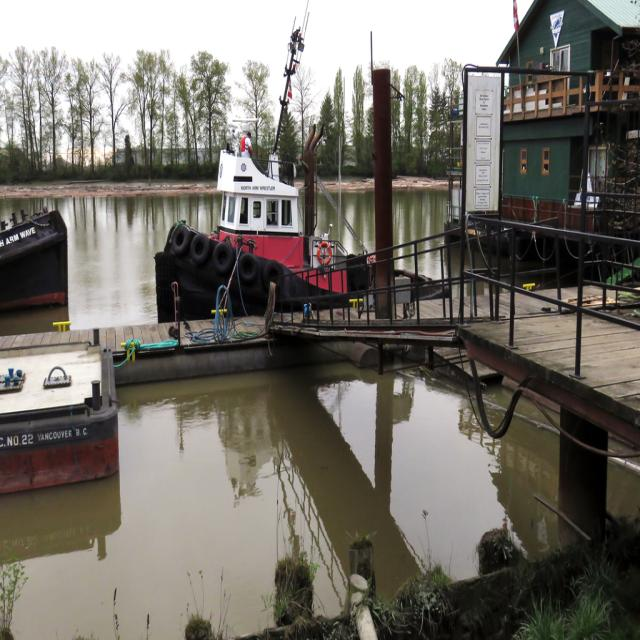Boat: (153, 100, 412, 344), (0, 203, 69, 309)
